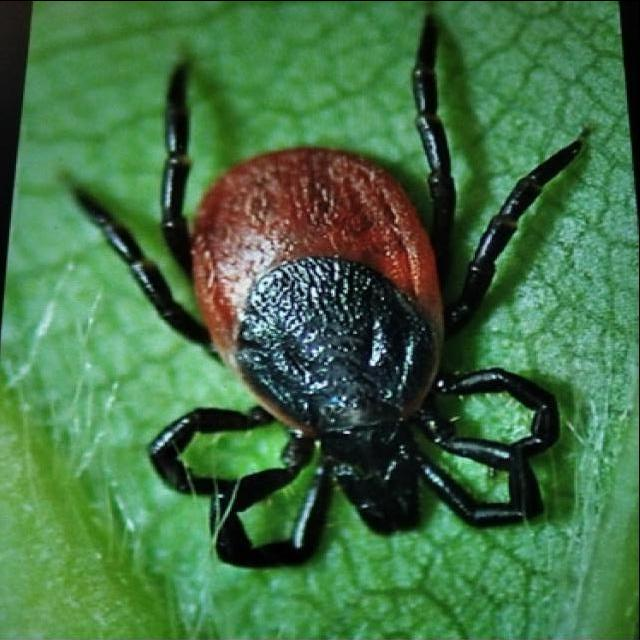Ixodes Ricinus-F: (60, 15, 587, 571)
